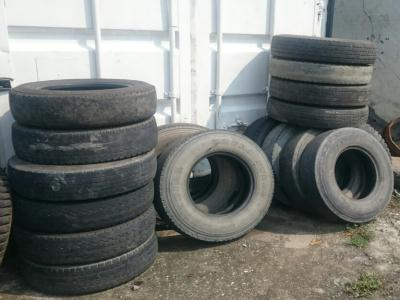tire: (154, 126, 280, 246), (292, 124, 395, 231), (8, 203, 157, 265), (6, 73, 160, 129), (6, 116, 159, 167), (5, 152, 164, 201), (9, 184, 156, 234), (268, 29, 379, 68), (270, 75, 373, 108), (267, 96, 370, 127), (270, 56, 374, 85)
